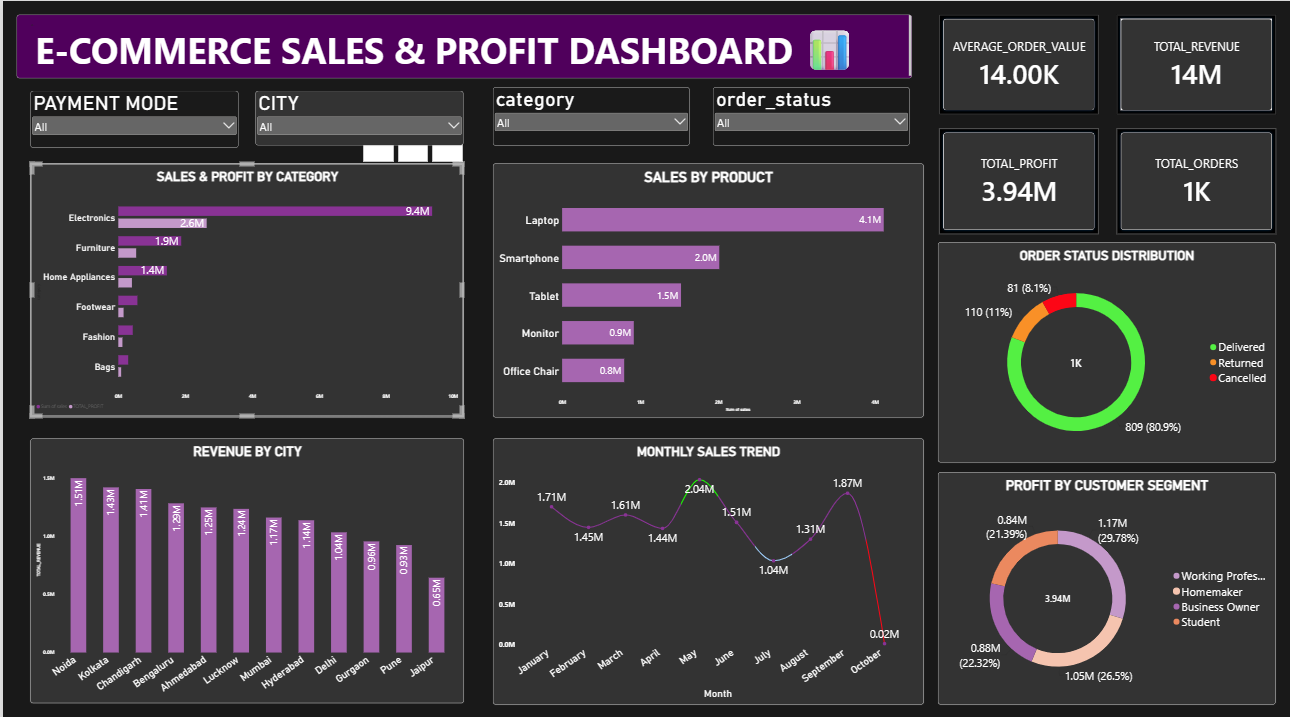

This screenshot's page, from the dashboard's own definition file:
{"tool":"powerbi","page":{"name":"Page 1","canvas":[3840,2160],"ordinal":0},"visuals":[{"type":"cardVisual","fields":{"Data":["Ecommerce_Sales1000_Rows.total_orders"]},"box":[3300,377.3,472.7,313.6],"z":0},{"type":"cardVisual","fields":{"Data":["Ecommerce_Sales1000_Rows.total_profit"]},"box":[2772.7,377.3,472.7,313.6],"z":1},{"type":"cardVisual","fields":{"Data":["Ecommerce_Sales1000_Rows.total_sales"]},"box":[3300,40.9,472.7,295.5],"z":2},{"type":"cardVisual","fields":{"Data":["Ecommerce_Sales1000_Rows.Average_order_value"]},"box":[2772.7,40.9,472.7,295.5],"z":3},{"type":"lineChart","title":"MONTHLY SALES TREND","fields":{"Category":["Ecommerce_Sales1000_Rows.date month.Variation.Date Hierarchy.Month"],"Y":["Sum(Ecommerce_Sales1000_Rows.sales)"]},"box":[1451.9,1292.6,1276,788],"z":4},{"type":"barChart","title":"SALES BY PRODUCT","fields":{"Category":["Ecommerce_Sales1000_Rows.product"],"Y":["Sum(Ecommerce_Sales1000_Rows.sales)"]},"box":[1452,480,1276,752],"z":5},{"type":"columnChart","title":"REVENUE BY CITY","fields":{"Category":["Ecommerce_Sales1000_Rows.city"],"Y":["Ecommerce_Sales1000_Rows.TOTAL_REVENUE"]},"box":[80,1296,1284,784],"z":6},{"type":"donutChart","title":"PROFIT BY CUSTOMER SEGMENT","fields":{"Category":["Ecommerce_Sales1000_Rows.customer_segment"],"Y":["Ecommerce_Sales1000_Rows.TOTAL_PROFIT"]},"box":[2772,1396,1000,688],"z":7},{"type":"donutChart","title":"ORDER STATUS DISTRIBUTION","fields":{"Category":["Ecommerce_Sales1000_Rows.order_status"],"Y":["CountNonNull(Ecommerce_Sales1000_Rows.order_status)"]},"box":[2772,716,1000,652],"z":8},{"type":"slicer","fields":{"Values":["Ecommerce_Sales1000_Rows.payment_mode","Ecommerce_Sales1000_Rows.payment_mode"]},"box":[80,268,616,168],"z":9},{"type":"clusteredBarChart","title":"SALES & PROFIT BY CATEGORY","fields":{"Category":["Ecommerce_Sales1000_Rows.category"],"Y":["Sum(Ecommerce_Sales1000_Rows.sales)","Ecommerce_Sales1000_Rows.TOTAL_PROFIT"]},"box":[80,480,1284,752],"z":10},{"type":"slicer","fields":{"Values":["Ecommerce_Sales1000_Rows.city"]},"box":[747.8,268.1,615.9,160.9],"z":11},{"type":"slicer","fields":{"Values":["Ecommerce_Sales1000_Rows.order_status"]},"box":[2104,256,582.8,172.4],"z":12},{"type":"slicer","fields":{"Values":["Ecommerce_Sales1000_Rows.category"]},"box":[1452,256,582.8,172.4],"z":13},{"type":"textbox","box":[40,40,2652,188],"z":14}]}

Visuals, with their boxes in screenshot pixels (x1, y1, x2, y2), scaled from the page's 3840x2160 canvas onto the 1290x717 screenshot:
cardVisual - Ecommerce_Sales1000_Rows.total_orders: [1109, 125, 1267, 229]
cardVisual - Ecommerce_Sales1000_Rows.total_profit: [931, 125, 1090, 229]
cardVisual - Ecommerce_Sales1000_Rows.total_sales: [1109, 14, 1267, 112]
cardVisual - Ecommerce_Sales1000_Rows.Average_order_value: [931, 14, 1090, 112]
"MONTHLY SALES TREND" lineChart: [488, 429, 916, 691]
"SALES BY PRODUCT" barChart: [488, 159, 916, 409]
"REVENUE BY CITY" columnChart: [27, 430, 458, 690]
"PROFIT BY CUSTOMER SEGMENT" donutChart: [931, 463, 1267, 692]
"ORDER STATUS DISTRIBUTION" donutChart: [931, 238, 1267, 454]
slicer - Ecommerce_Sales1000_Rows.payment_mode x Ecommerce_Sales1000_Rows.payment_mode: [27, 89, 234, 145]
"SALES & PROFIT BY CATEGORY" clusteredBarChart: [27, 159, 458, 409]
slicer - Ecommerce_Sales1000_Rows.city: [251, 89, 458, 142]
slicer - Ecommerce_Sales1000_Rows.order_status: [707, 85, 903, 142]
slicer - Ecommerce_Sales1000_Rows.category: [488, 85, 684, 142]
textbox: [13, 13, 904, 76]
